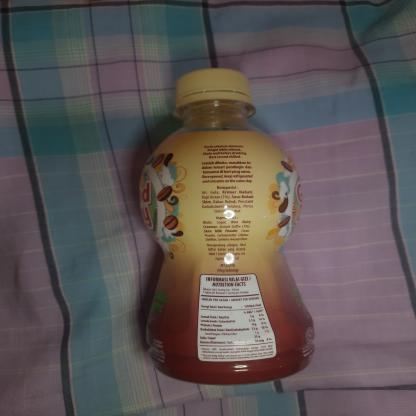bottle: (132, 64, 320, 388)
